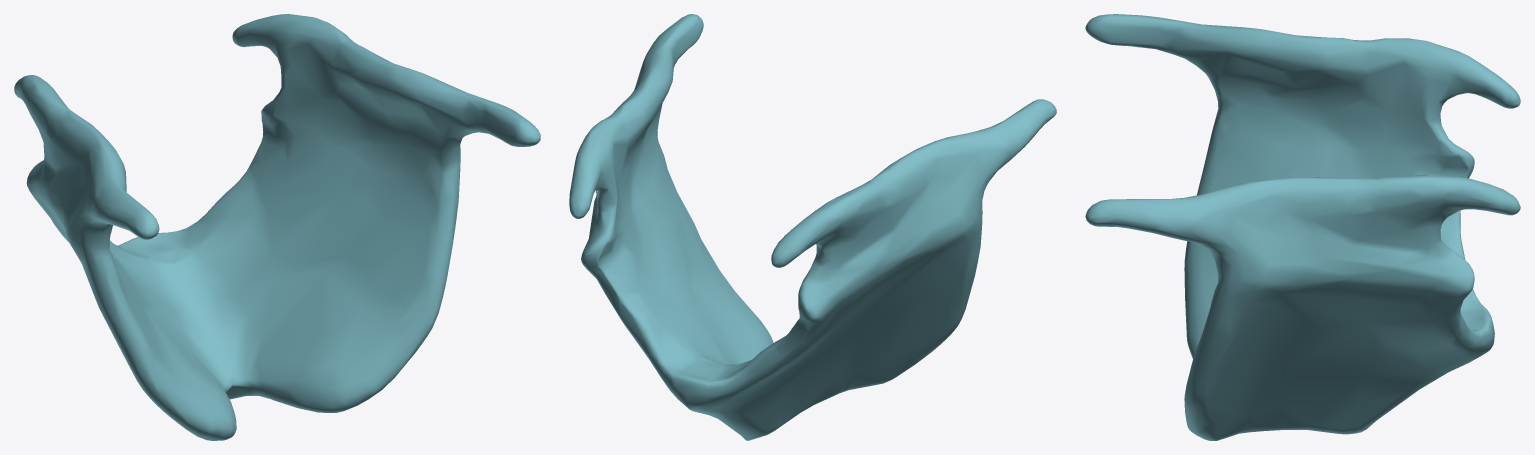
3 renders of one model, left to right at view 1: azimuth 30°, elevation 25°; view 2: azimuth 150°, elevation 25°; view 3: azimuth 270°, elevation 25°, orthographic. The views are drawn at different scales.
Parts seen in each view (by area): view 1: 甲状软骨; view 2: 甲状软骨; view 3: 甲状软骨.
Boxes of the visible parts, bbox=[...] form: 甲状软骨: bbox=[14, 14, 540, 440]; 甲状软骨: bbox=[569, 14, 1056, 440]; 甲状软骨: bbox=[1085, 14, 1520, 440].
Size of the model in its own units: 0.0607 by 0.0464 by 0.0557.
